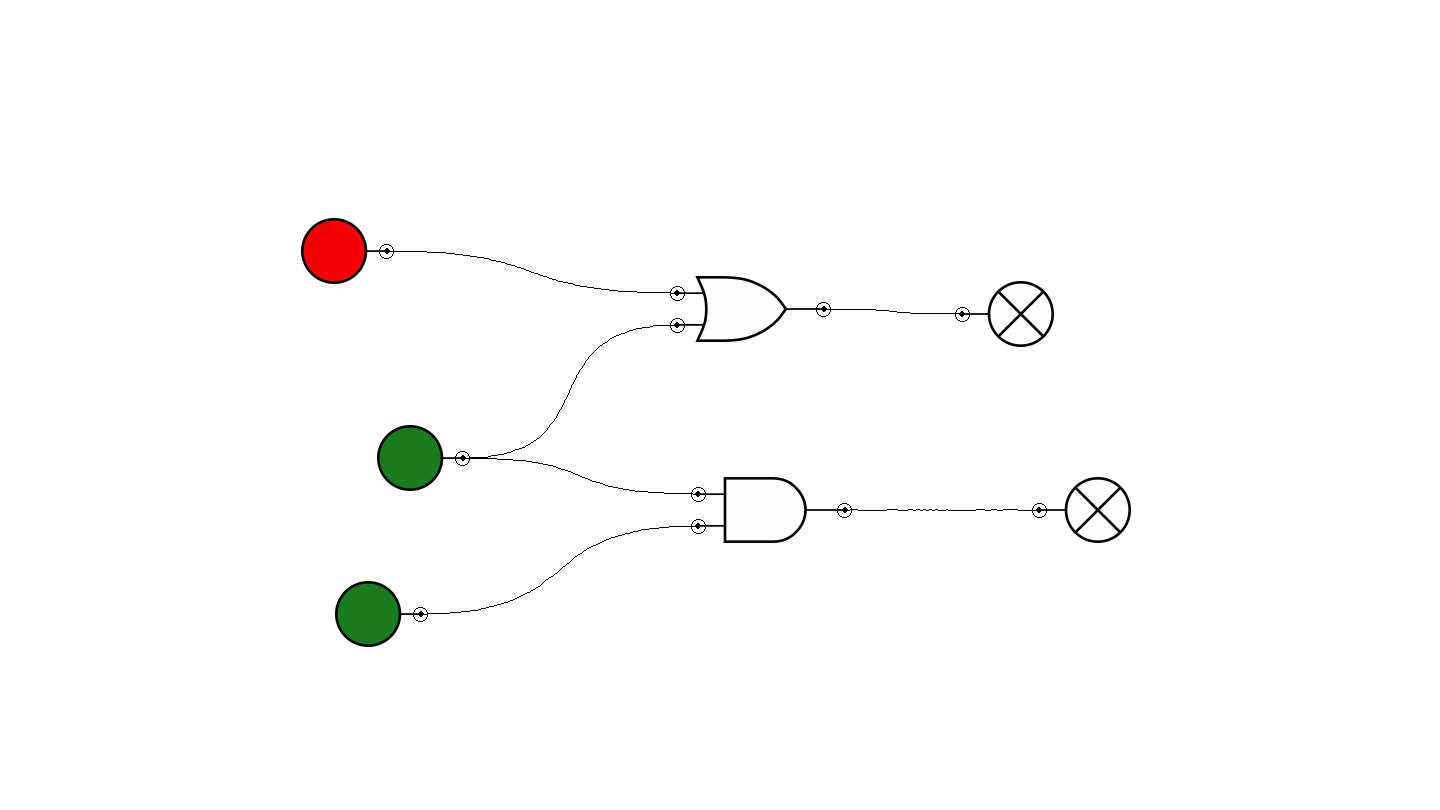and: (691, 477, 852, 543)
bulb: (955, 281, 1054, 347), (1032, 477, 1131, 543)
or: (670, 276, 831, 342)
switch_False: (301, 218, 394, 284)
switch_True: (377, 425, 470, 491), (335, 581, 428, 647)
